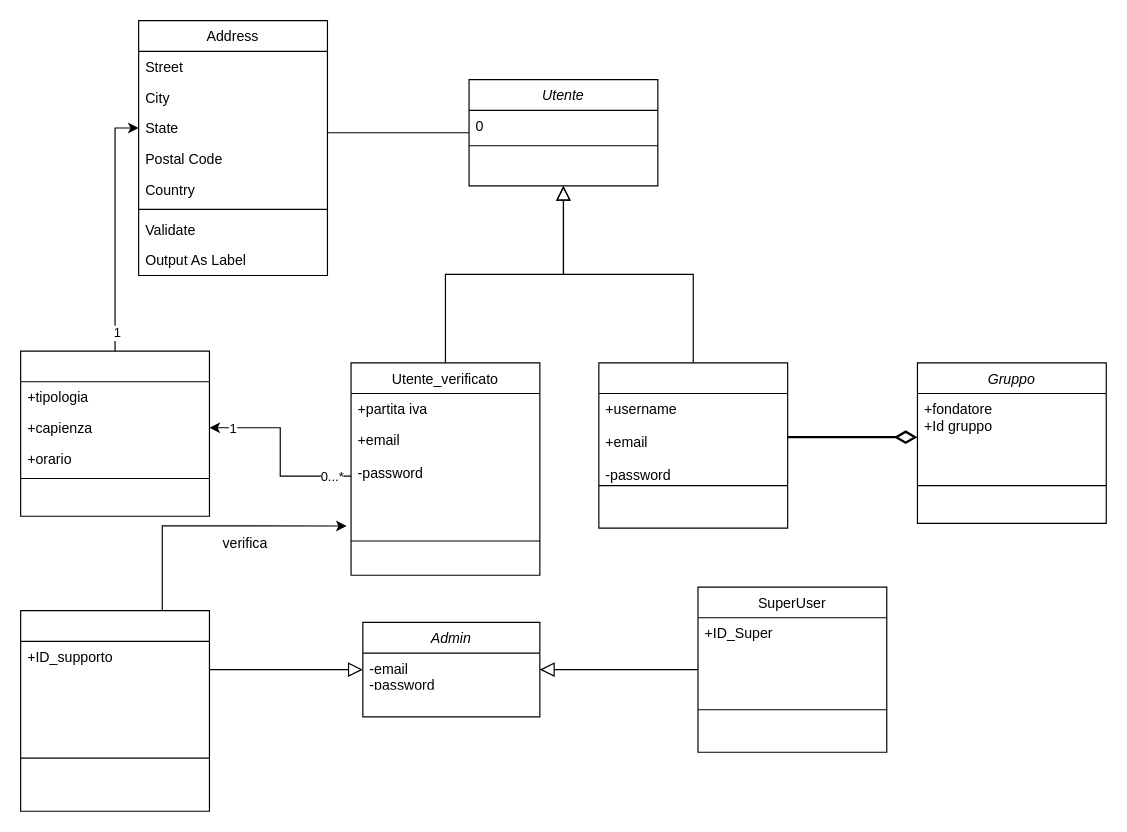
This 1127x832 diagram has some shape labels left out. The box of each missing label's shape, as (x1, y1, x2, y2) in pixels:
Stabilimento: (19, 350, 209, 516)
Supporto tecnico: (19, 609, 209, 811)
Utente_Registrato: (598, 362, 788, 528)
